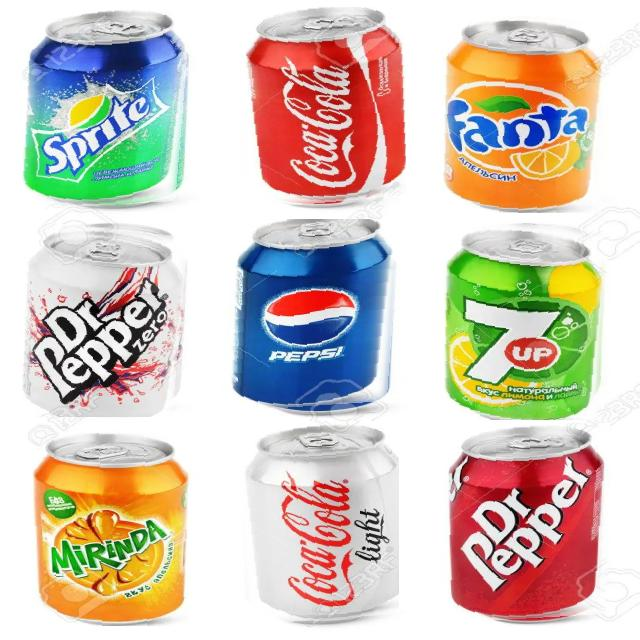Cans: (222, 7, 406, 210), (441, 7, 612, 213), (220, 220, 402, 413), (22, 6, 192, 211), (437, 423, 610, 624), (231, 421, 399, 625), (444, 216, 609, 420), (22, 220, 188, 417), (32, 424, 190, 626)
